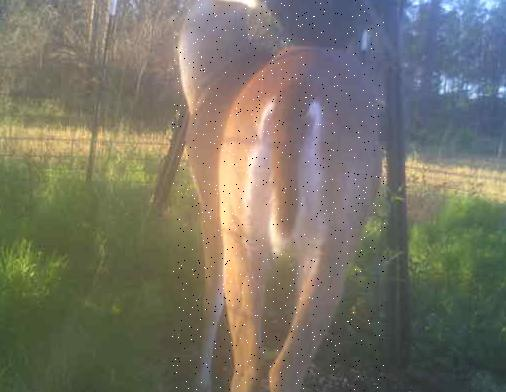Deer: (172, 0, 385, 392)
